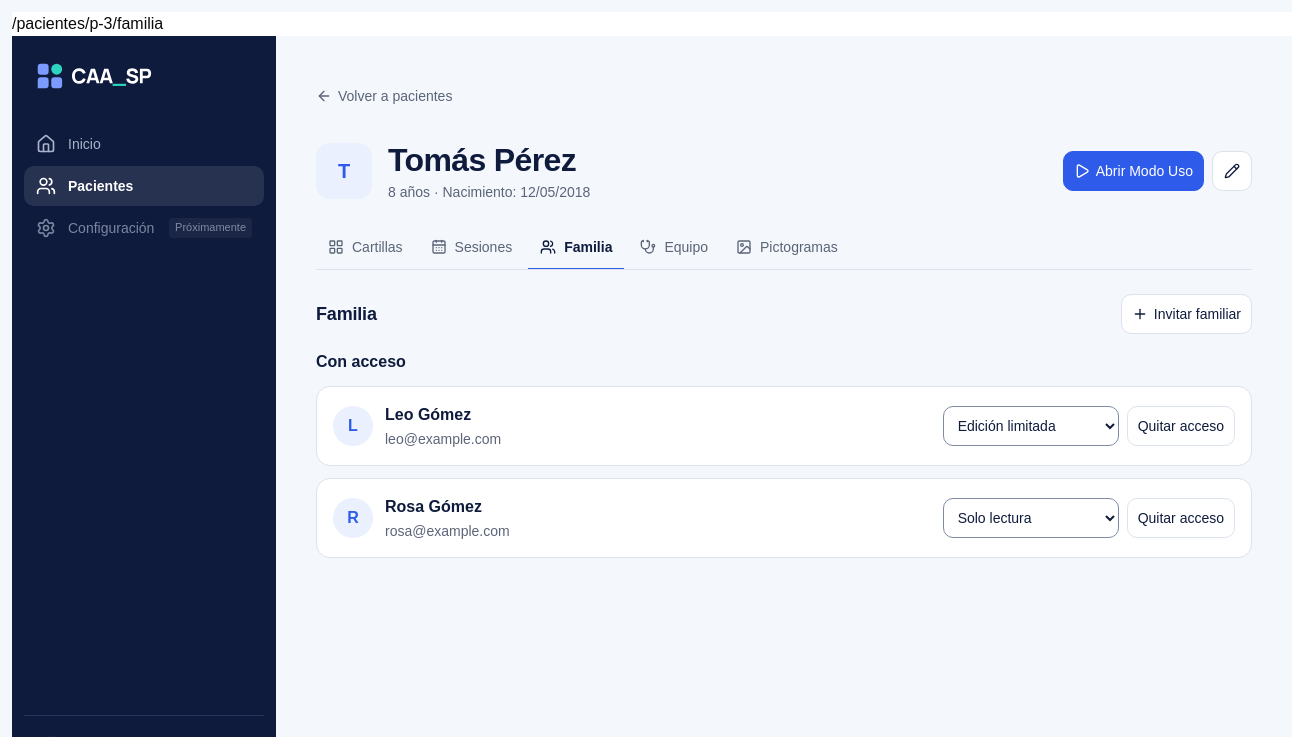
Test case: CollaboratorsPage › invitations › refreshes only the pending invitations after inviting
Expected: the text "Leo Gómez" is shown, top-left (385, 406), bottom-right (471, 423)
Click the button "Invitar familiar" at (1186, 314), box top-left (1121, 294), bottom-right (1252, 334)
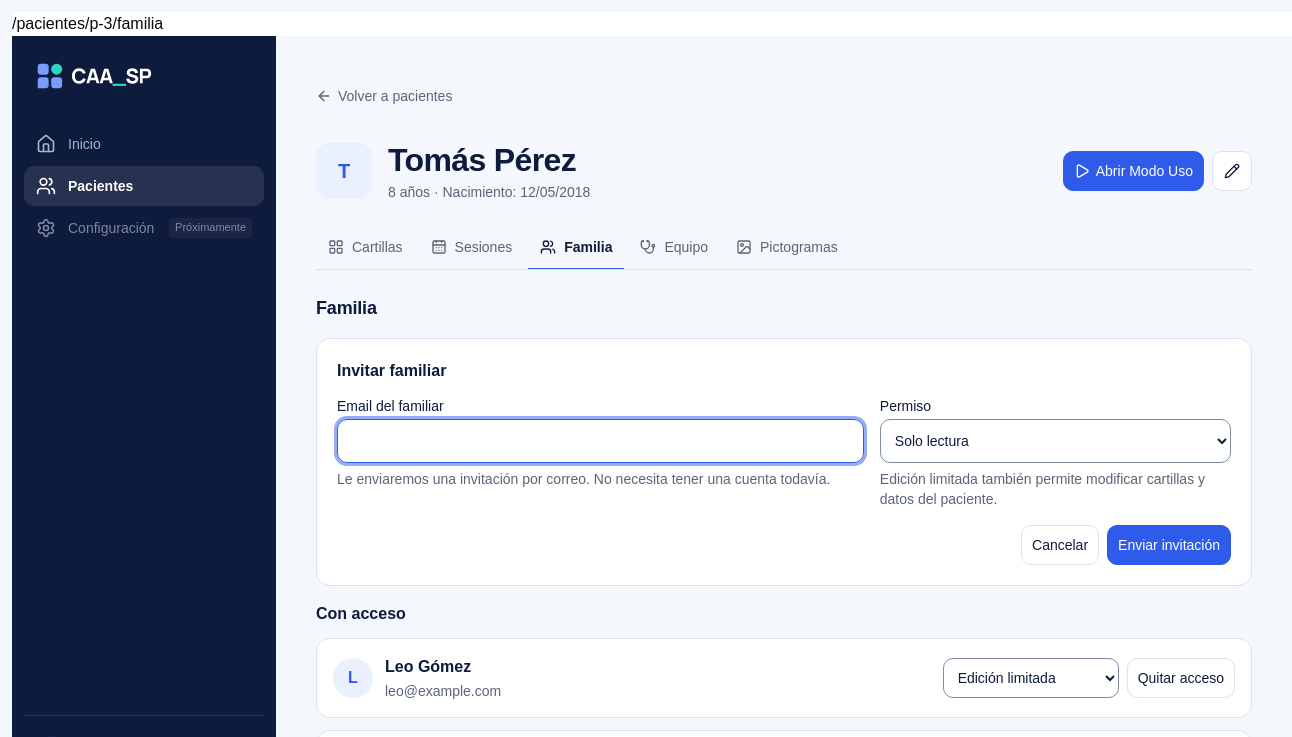
Type "nadie@example.com" into the field labelled "Email del familiar" at (600, 441), box top-left (337, 419), bottom-right (864, 463)
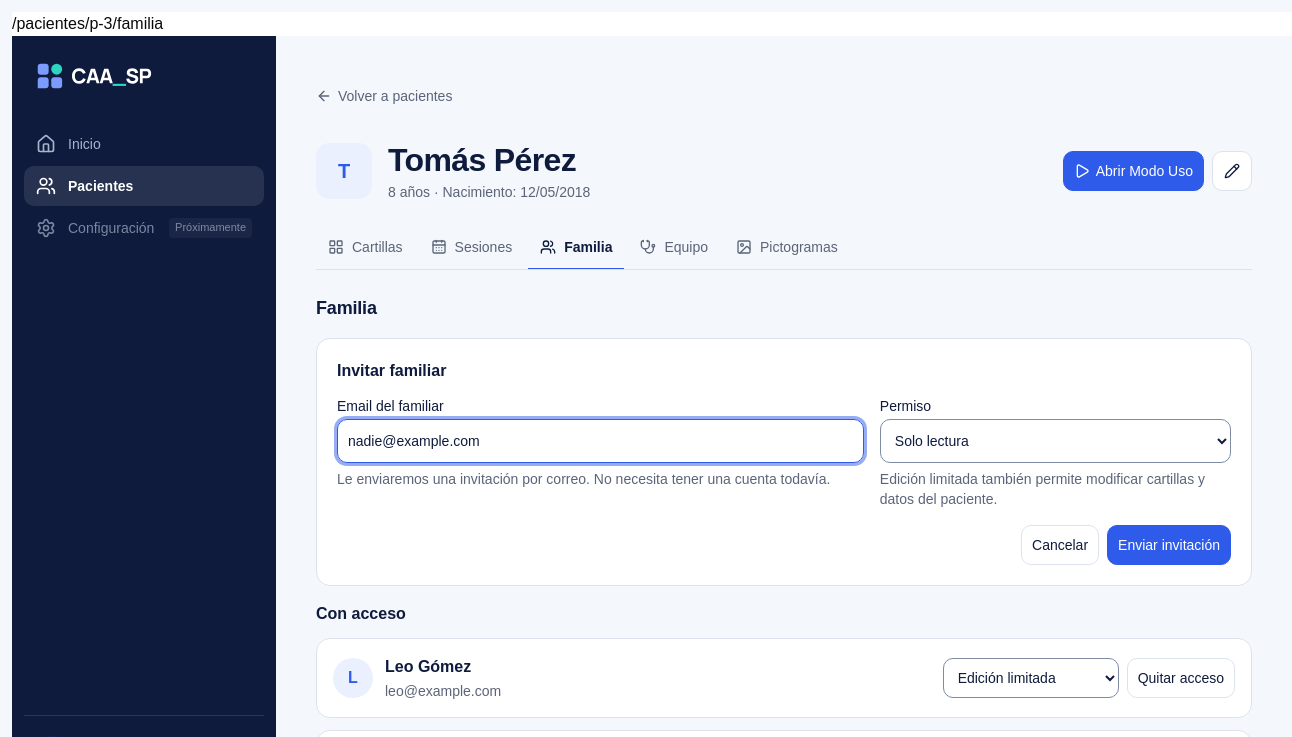
Click the button "Enviar invitación" at (1169, 545), box top-left (1107, 525), bottom-right (1231, 565)
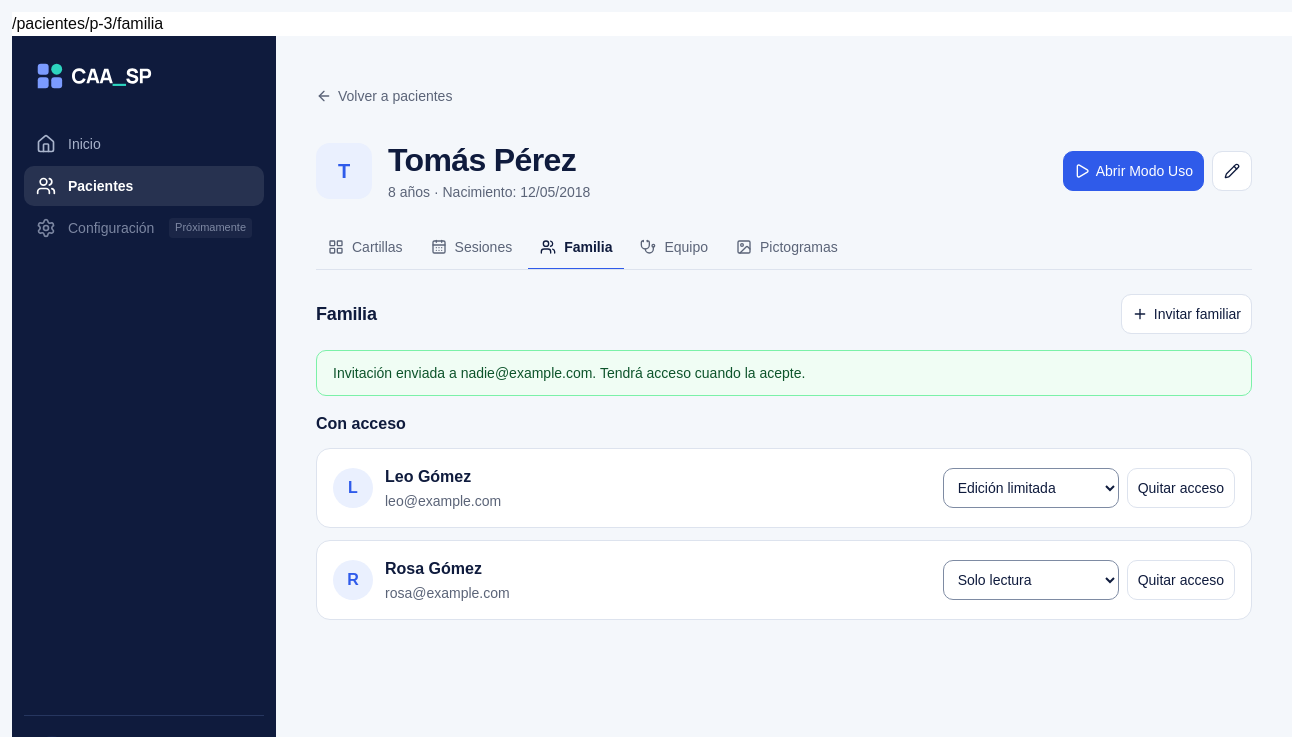
Now the message "Invitación enviada a nadie@example.com. Tendrá acceso cuando la acepte." is shown, box top-left (316, 350), bottom-right (1252, 396)
